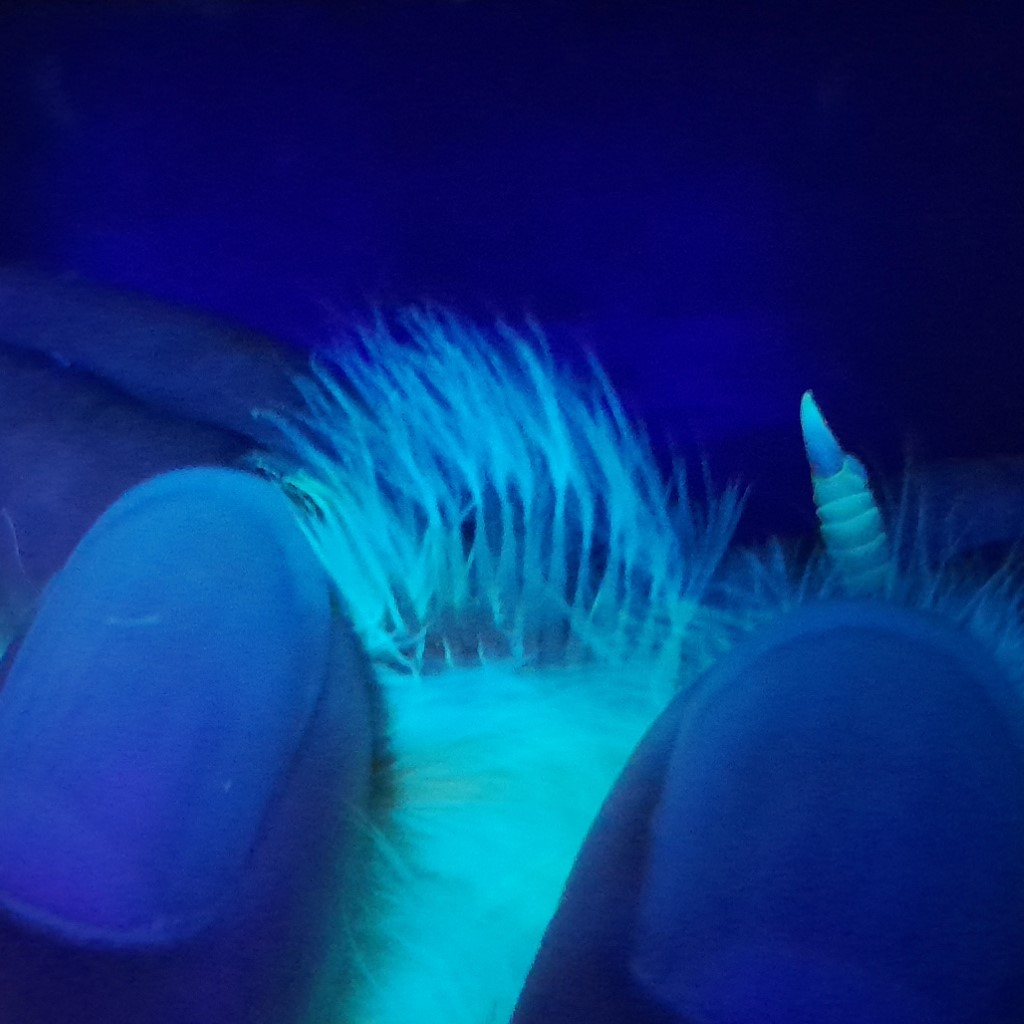male: (339, 451, 708, 722)
